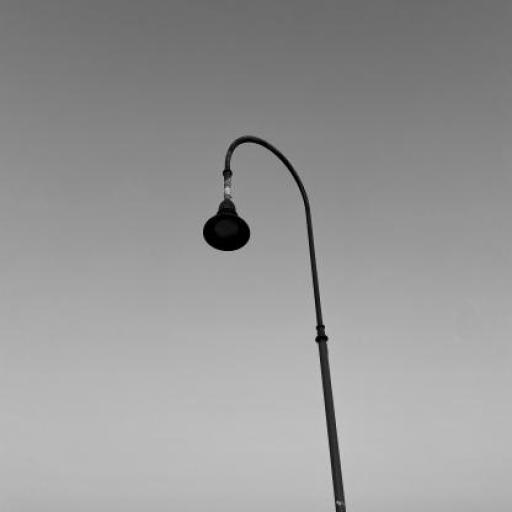street light: (203, 134, 347, 512)
